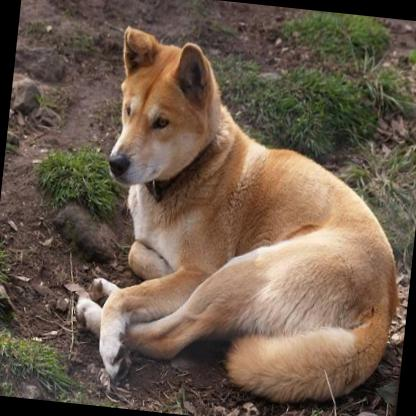dingo: (66, 19, 416, 410)
